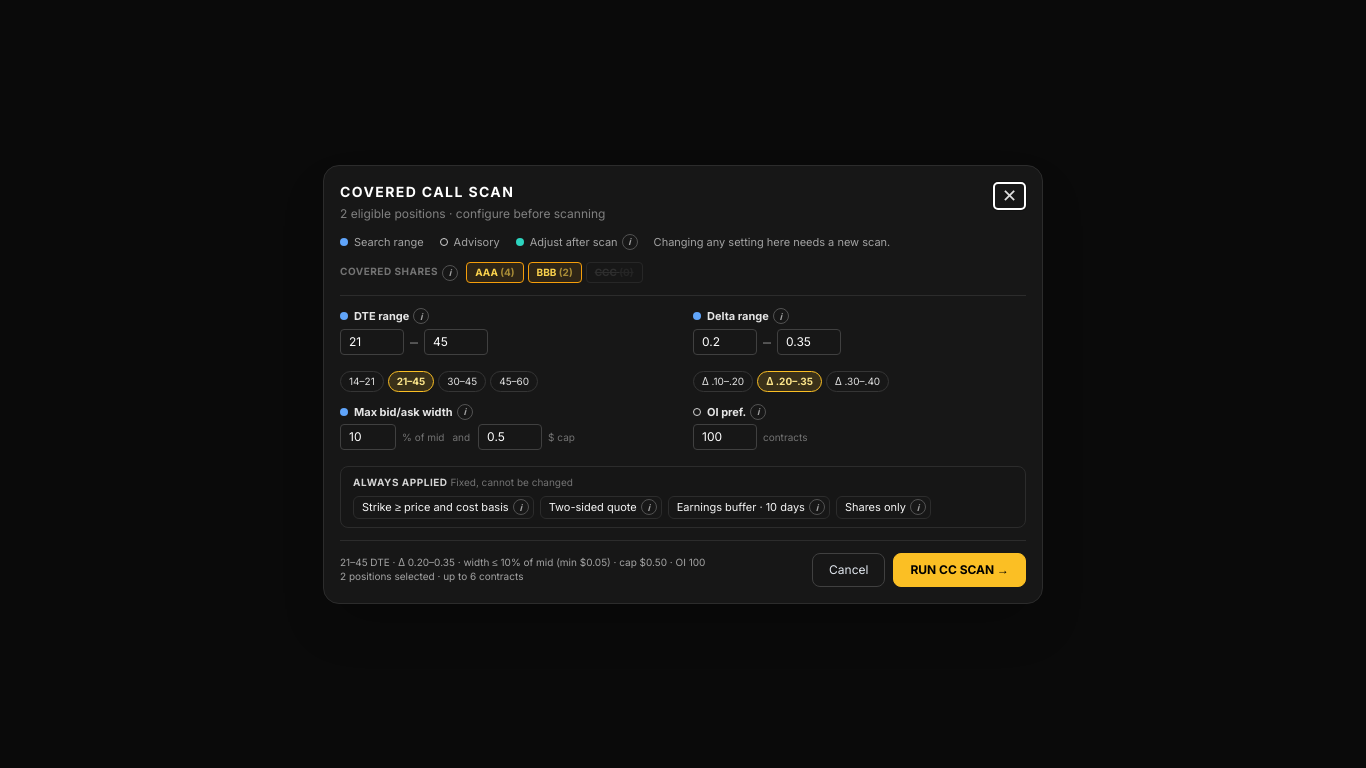
Test: the Always applied strip names every fixed rule and keeps its full text in a tooltip › a tooltip opens on click and closes when focus leaves
Step 1. Click the button named "More information" → point(817, 507), box [809, 499, 825, 515]
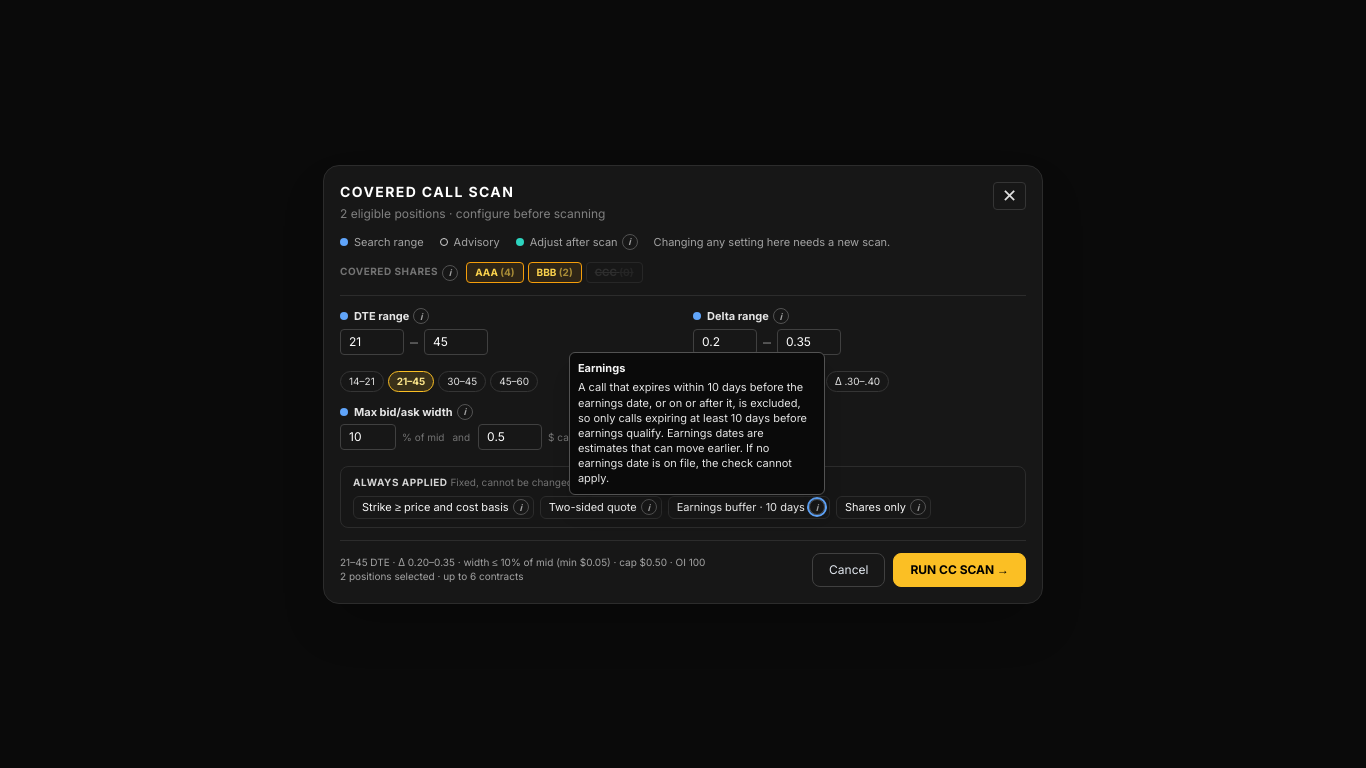
Check: the button named "More information" is expanded, box [809, 499, 825, 515]
Step 2. Press Tab
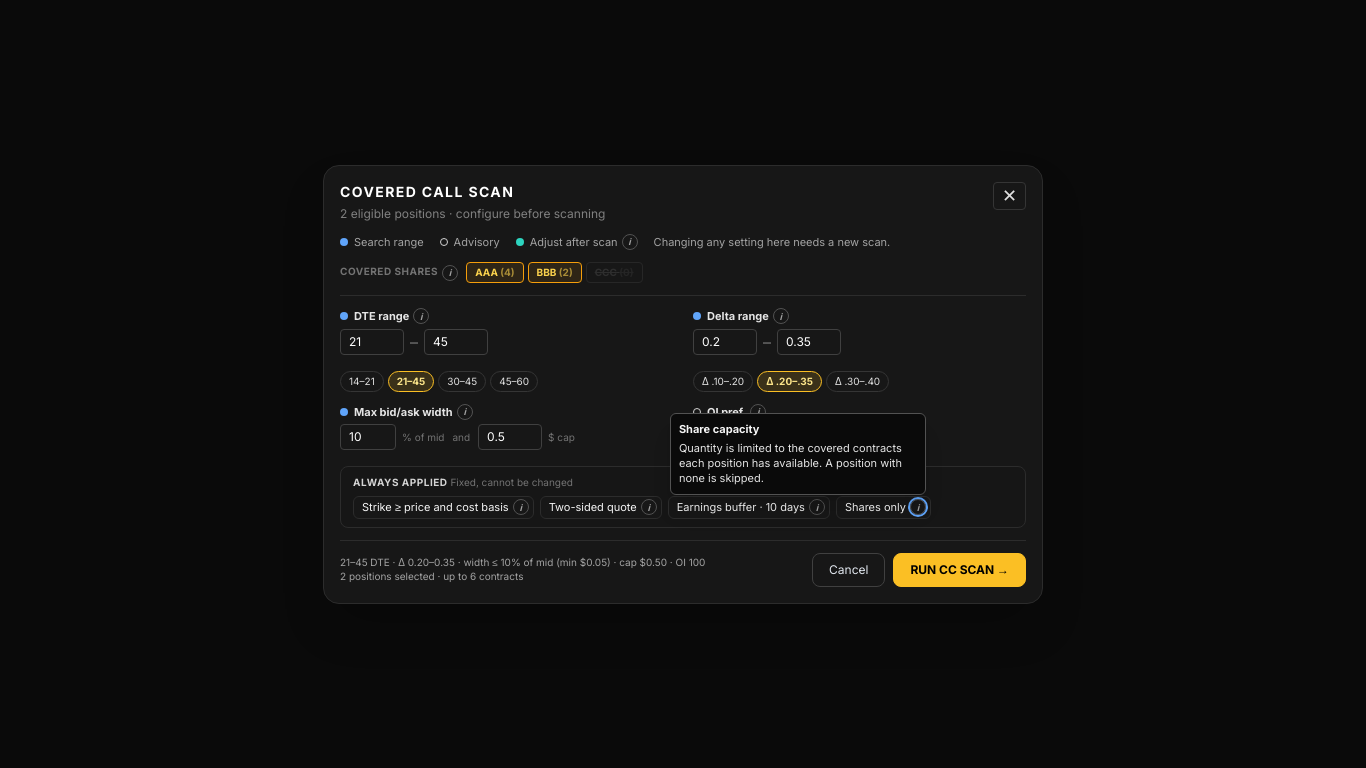
Check: the button named "More information" is collapsed, box [809, 499, 825, 515]
